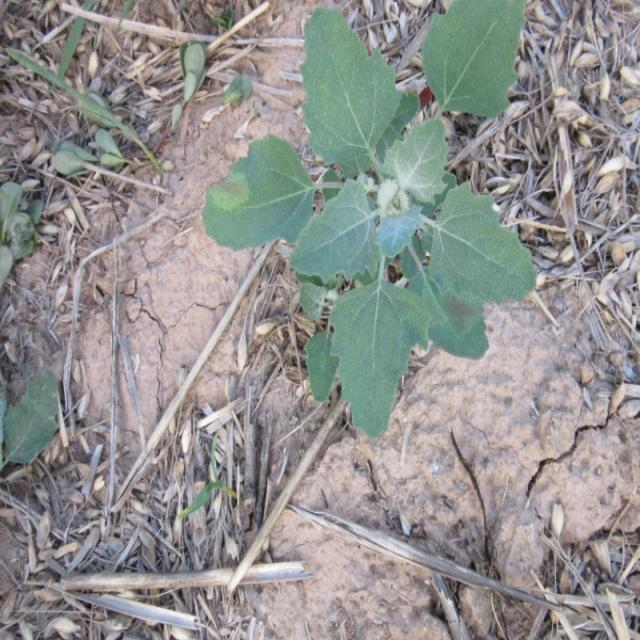ca: (203, 0, 541, 437)
